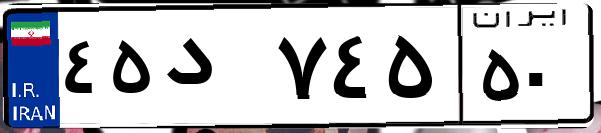0: (525, 38, 570, 115)
4: (330, 28, 385, 110), (57, 26, 110, 100)
5: (385, 28, 445, 110), (475, 38, 525, 113), (110, 28, 158, 98)
7: (270, 28, 330, 110)
د: (158, 20, 270, 120)
